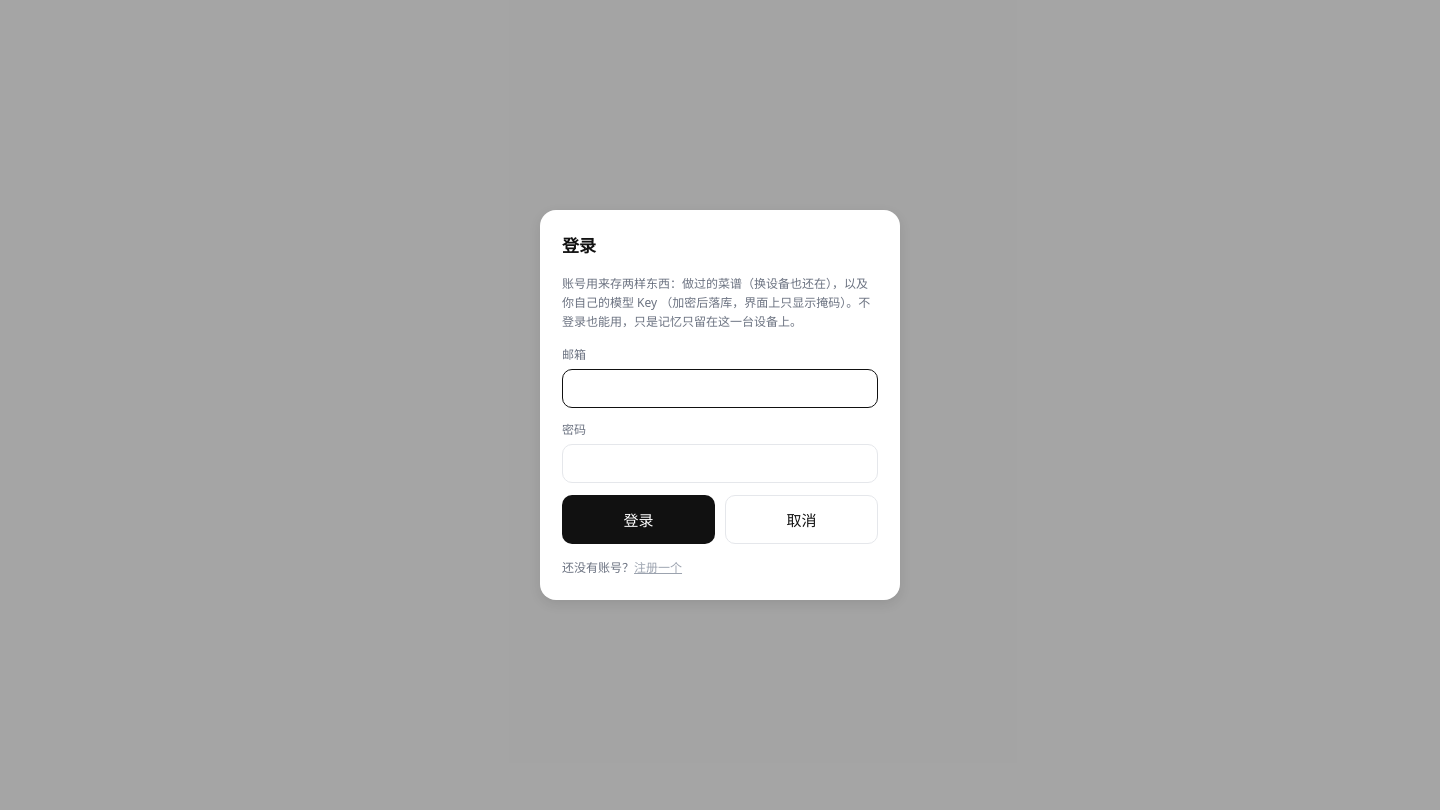
Test: AuthDialog › 邮箱格式不对时当场说清，不发请求
少了域名后缀：浏览器的原生邮箱校验放行，由前端这条规则接手
Type "hakura@example" into the field labelled "邮箱" at coordinates (720, 389), box [562, 369, 878, 408]
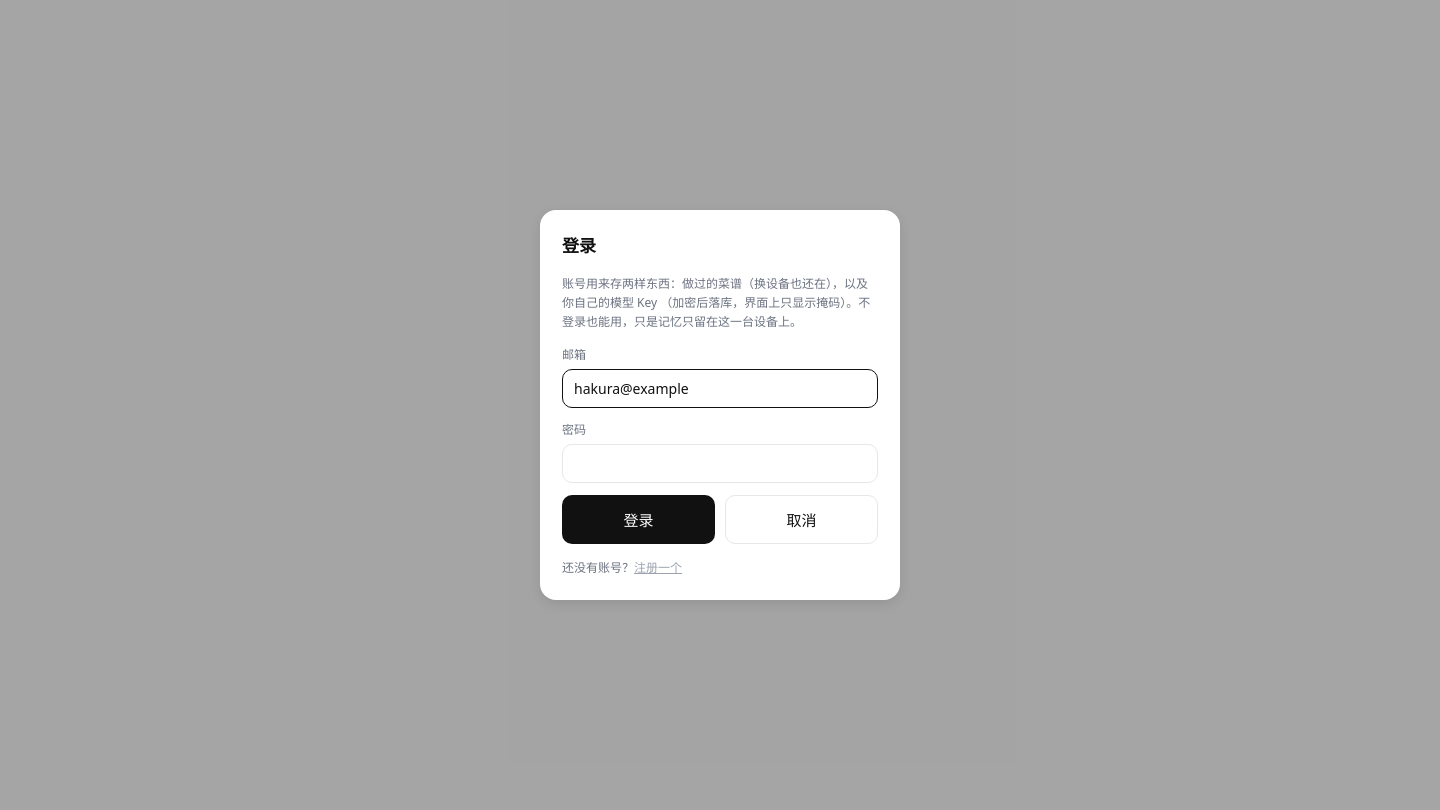
Type "password123" into the password field labelled "密码" at coordinates (720, 464), box [562, 444, 878, 484]
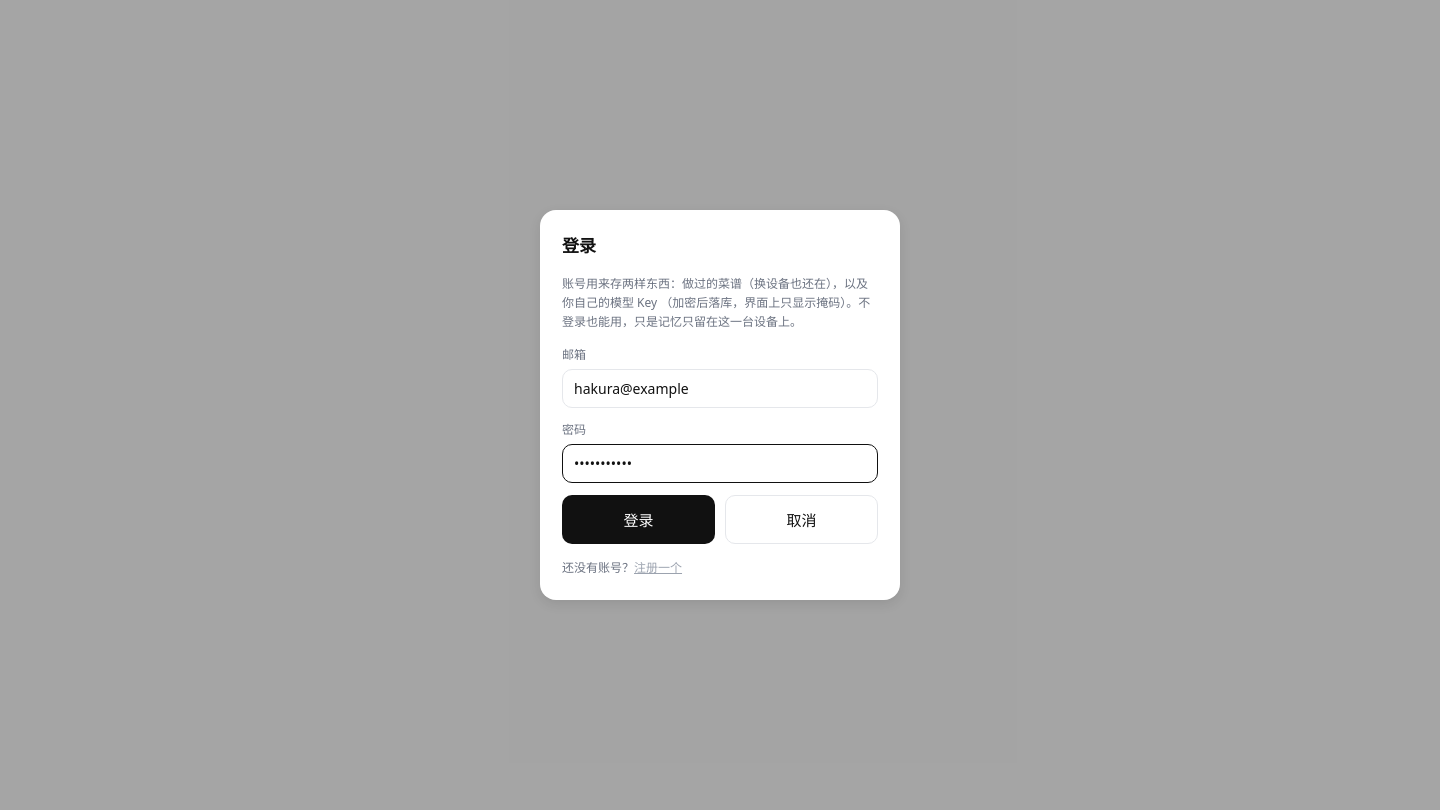
Click the button "登录" at coordinates (638, 520), box [562, 496, 715, 544]
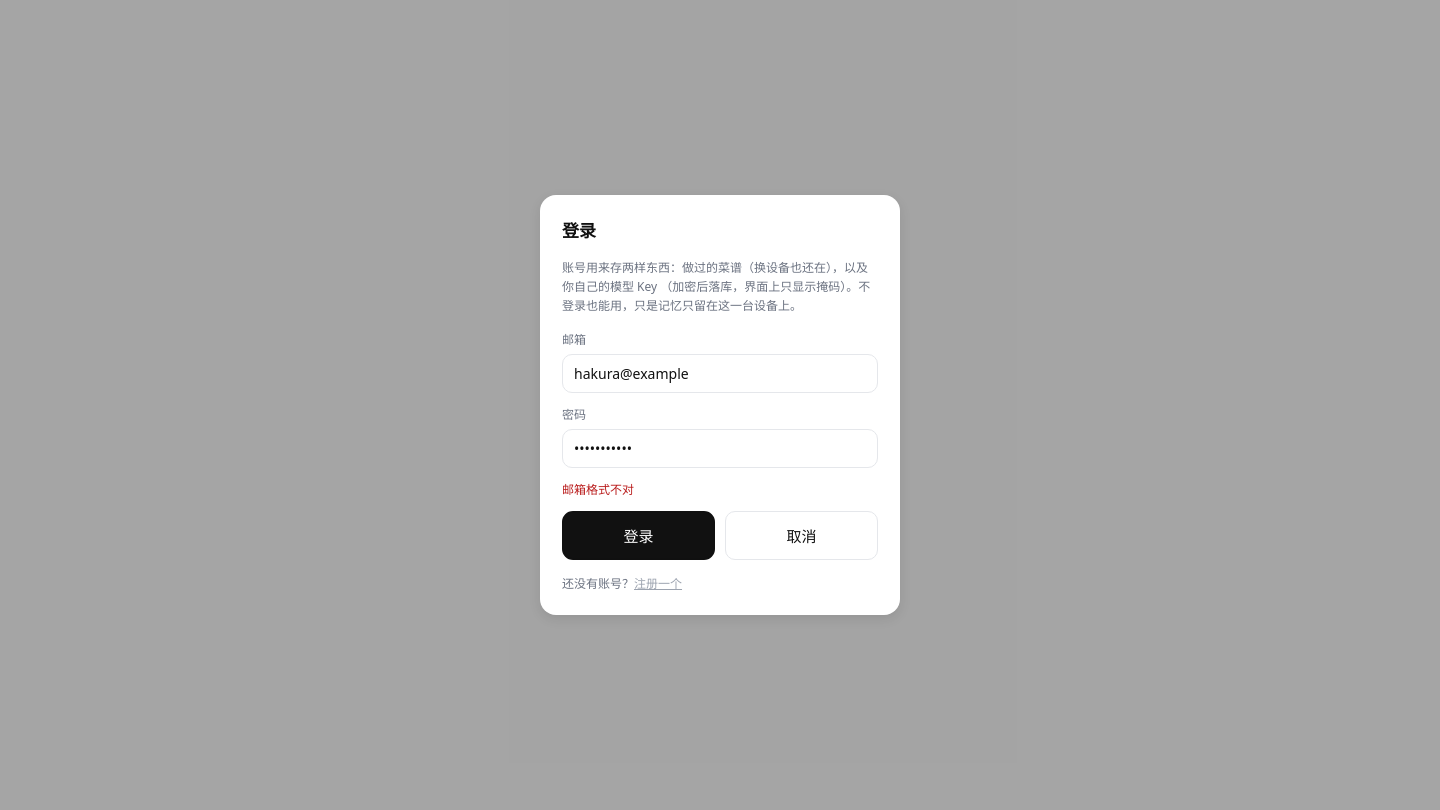
Now the message reads "邮箱格式不对", box [562, 481, 634, 498]
